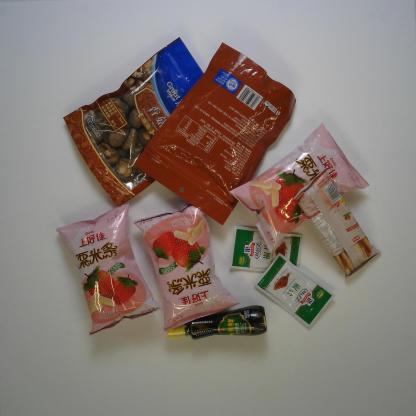Dessert: (293, 166, 383, 279)
Dried Food: (131, 41, 299, 228), (62, 36, 210, 209)
Puffed Food: (228, 121, 370, 255), (54, 204, 165, 336), (132, 203, 241, 333)
Seasoner: (255, 251, 335, 330), (228, 224, 304, 274), (167, 304, 268, 341)
